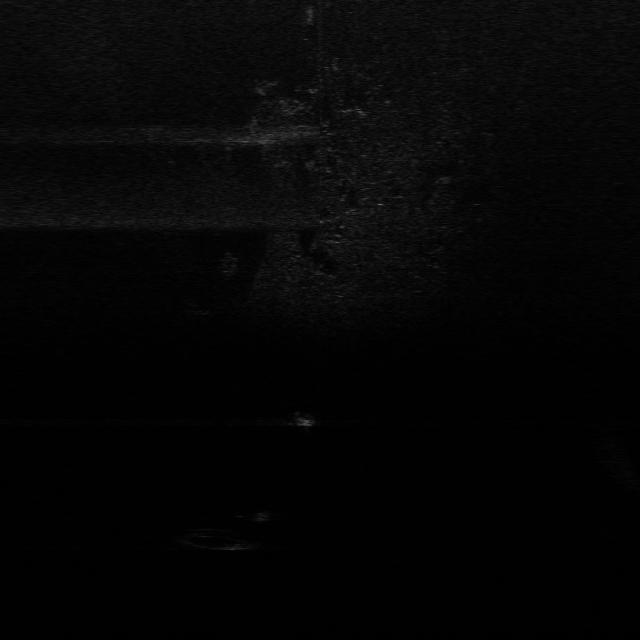cube: (236, 506, 276, 524)
square cage: (288, 407, 320, 428)
tyre: (178, 528, 263, 551)
